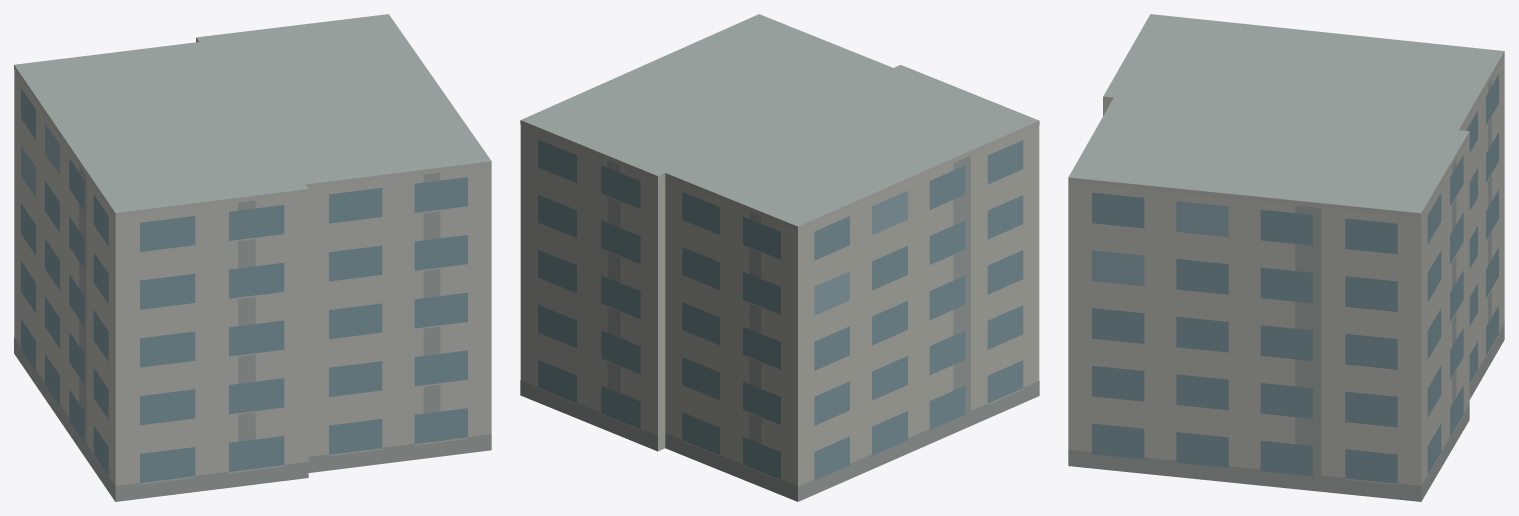
The model's file is survey-upis-32941130.glb.
3 renders of one model, left to right at view 1: azimuth 30°, elevation 25°; view 2: azimuth 150°, elevation 25°; view 3: azimuth 270°, elevation 25°, orthographic. The views are drawn at different scales.
Visible parts, largest first — view 1: survey-upis-32941130.tmp; view 2: survey-upis-32941130.tmp; view 3: survey-upis-32941130.tmp.
Part boxes in pixels (bbox=[...]): survey-upis-32941130.tmp: bbox=[14, 14, 491, 501]; survey-upis-32941130.tmp: bbox=[520, 14, 1039, 501]; survey-upis-32941130.tmp: bbox=[1068, 14, 1504, 501].
Size of the model in its own units: 21.04 by 14.2 by 19.47.
